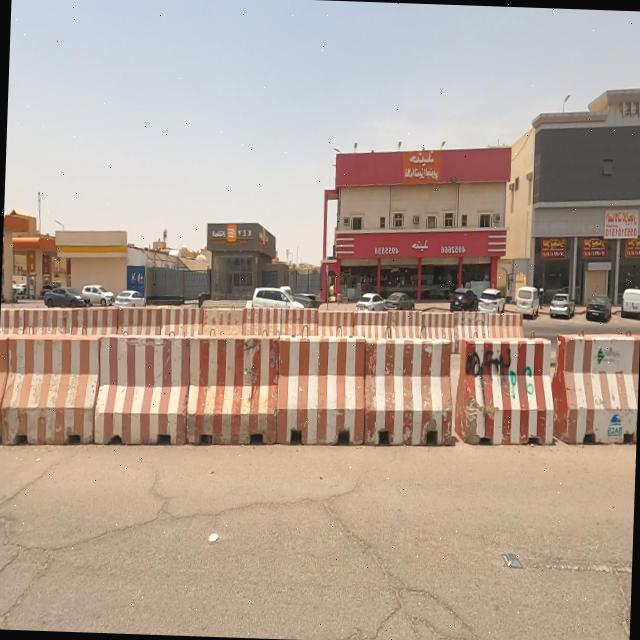Graffiti: (467, 350, 535, 401)
